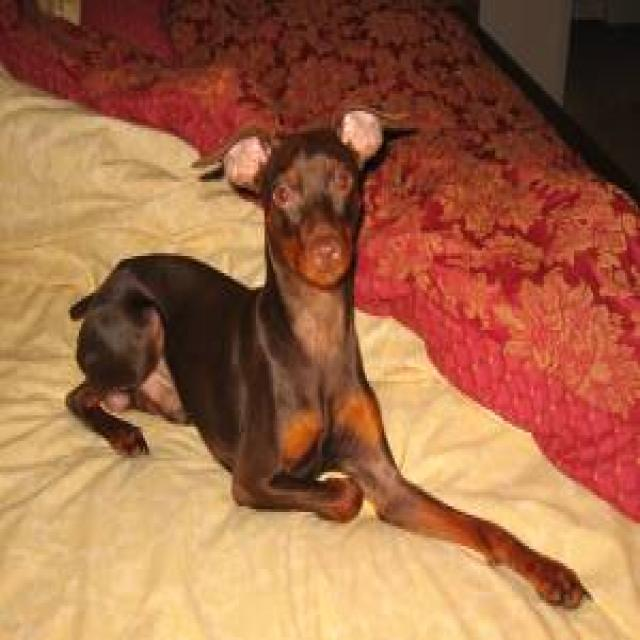dog-miniature_pinscher: (62, 91, 585, 623)
